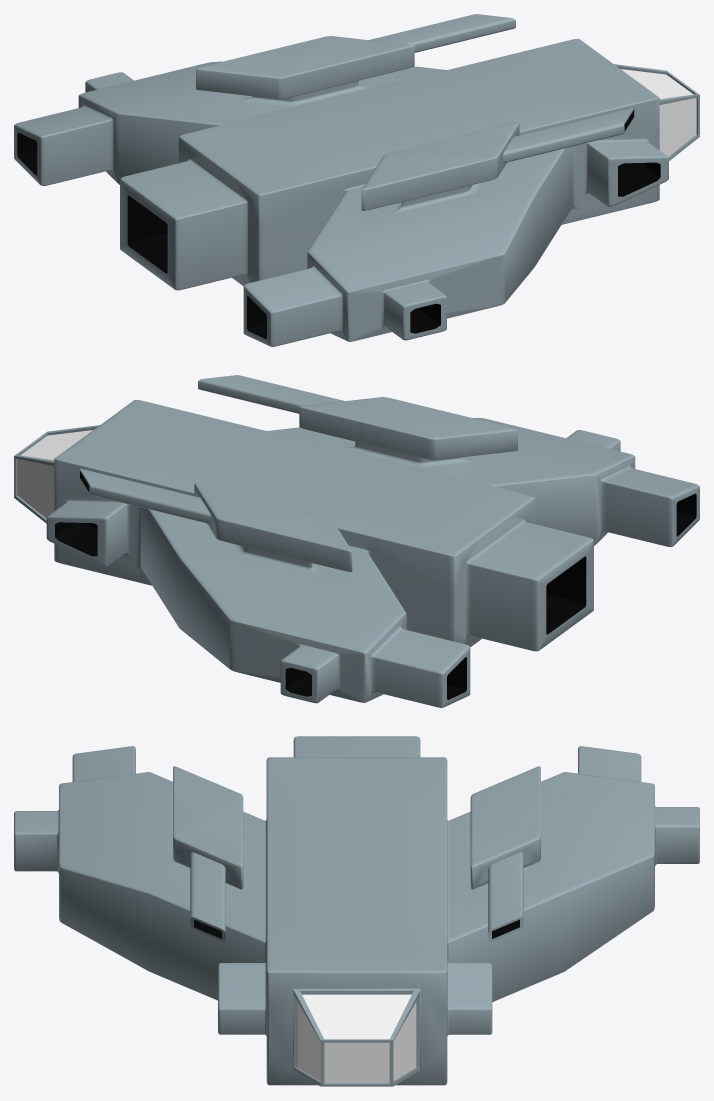
Rendered from Ship2.fbx.
3 views of the same model, one above another, from view 1: azimuth 30°, elevation 25°; view 2: azimuth 150°, elevation 25°; view 3: azimuth 270°, elevation 25° (orthographic). The views are drawn at different scales.
Parts seen in each view (by area): view 1: Body, Body.001, Body.002, Body.005, Body.004, Body.003; view 2: Body, Body.002, Body.001, Body.004, Body.005, Body.003; view 3: Body, Body.001, Body.002, Body.003, Body.004, Body.005.
Boxes of the visible parts, left/top/right/bottom form: Body: left=120, top=39, right=668, bottom=290; Body.001: left=243, top=146, right=573, bottom=346; Body.002: left=14, top=61, right=446, bottom=185; Body.005: left=196, top=14, right=515, bottom=101; Body.004: left=361, top=107, right=635, bottom=210; Body.003: left=614, top=64, right=699, bottom=160; Body: left=46, top=400, right=593, bottom=651; Body.002: left=141, top=507, right=470, bottom=707; Body.001: left=267, top=417, right=699, bottom=546; Body.004: left=198, top=375, right=517, bottom=462; Body.005: left=78, top=468, right=352, bottom=571; Body.003: left=14, top=425, right=99, bottom=523; Body: left=218, top=736, right=492, bottom=1085; Body.001: left=14, top=746, right=264, bottom=1000; Body.002: left=449, top=746, right=699, bottom=1001; Body.003: left=293, top=989, right=420, bottom=1086; Body.004: left=173, top=766, right=243, bottom=941; Body.005: left=470, top=766, right=540, bottom=941.
Size of the model in its own units: 762 by 169 by 760.
